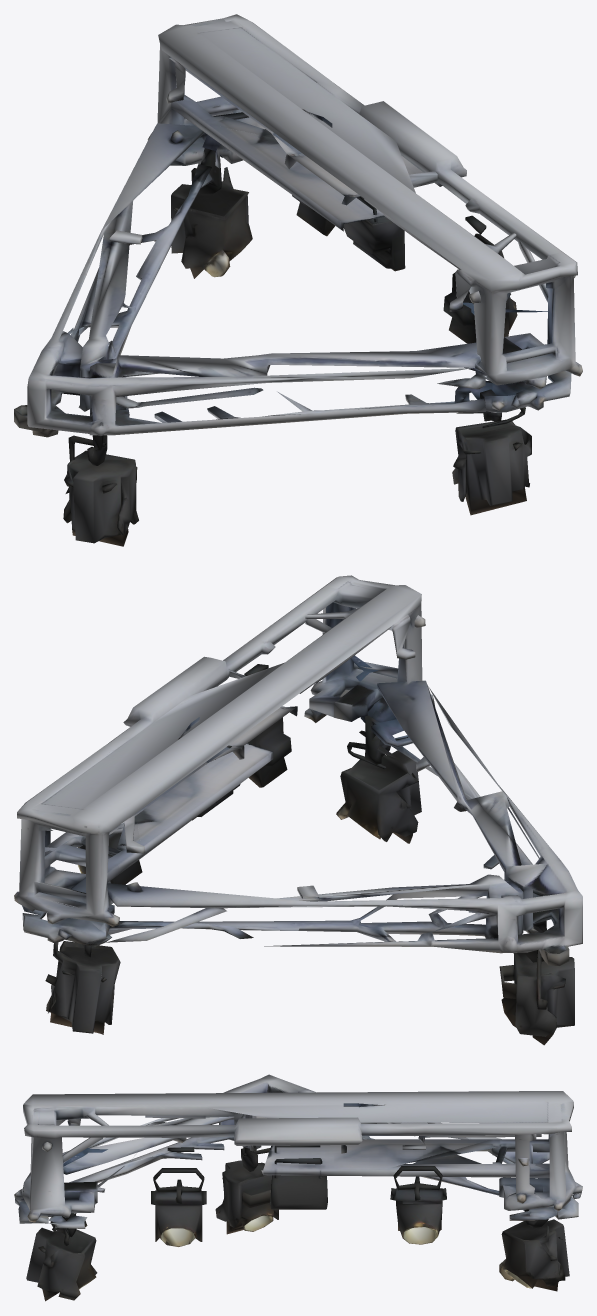
File: lighting_truss.glb
3 renders of one model, top to bottom at view 1: azimuth 30°, elevation 25°; view 2: azimuth 150°, elevation 25°; view 3: azimuth 270°, elevation 25°, orthographic. The views are drawn at different scales.
Parts seen in each view (by area): view 1: tripo_node_07b32553-6cd8-4aa4-b21b-9631ec0728e0; view 2: tripo_node_07b32553-6cd8-4aa4-b21b-9631ec0728e0; view 3: tripo_node_07b32553-6cd8-4aa4-b21b-9631ec0728e0.
Boxes of the visible parts, x1,y1,x2,y2 form: tripo_node_07b32553-6cd8-4aa4-b21b-9631ec0728e0: (14, 14, 582, 546); tripo_node_07b32553-6cd8-4aa4-b21b-9631ec0728e0: (14, 575, 582, 1045); tripo_node_07b32553-6cd8-4aa4-b21b-9631ec0728e0: (14, 1074, 582, 1301).
Size of the model in its own units: 0.6928 by 0.4697 by 1.
Materials: 1 (1 with a texture image).
